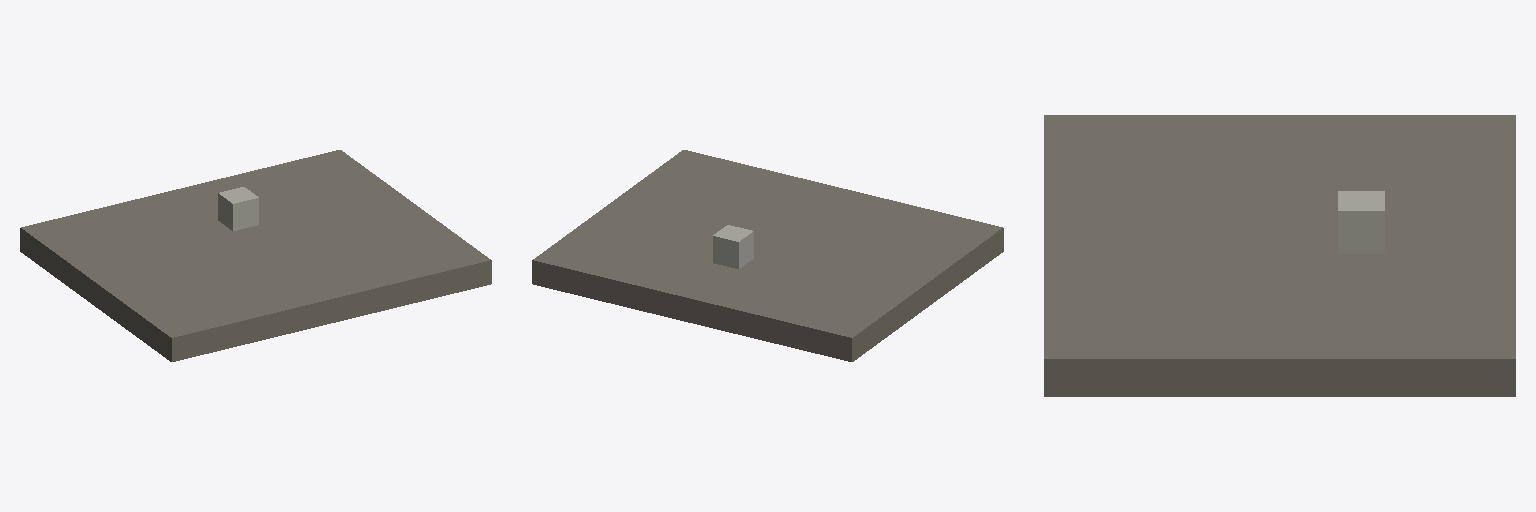
URDF robot description (parttoolgen_hammer_single_cube):
<?xml version="1.0"?>
<robot name="parttoolgen_hammer_single_cube">
  <link name="table_with_target_cube">
    <visual>
      <material name="wood">
        <color rgba="0.52 0.50 0.46 1.0"/>
      </material>
      <origin xyz="0 0 0"/>
      <geometry>
        <box size="0.55 0.45 0.04"/>
      </geometry>
    </visual>
    <collision>
      <origin xyz="0 0 0"/>
      <geometry>
        <box size="0.55 0.45 0.04"/>
      </geometry>
    </collision>

    <visual>
      <material name="target_cube">
        <color rgba="0.72 0.72 0.68 1.0"/>
      </material>
      <origin xyz="0.014836460136748497 0.07747197096610939 0.042499999999999996"/>
      <geometry>
        <box size="0.045 0.045 0.045"/>
      </geometry>
    </visual>
    <collision>
      <origin xyz="0.014836460136748497 0.07747197096610939 0.042499999999999996"/>
      <geometry>
        <box size="0.045 0.045 0.045"/>
      </geometry>
    </collision>

    <inertial>
      <mass value="500"/>
      <friction value="1.0"/>
      <inertia ixx="1000.0" ixy="0.0" ixz="0.0" iyy="1000.0" iyz="0.0" izz="1000.0"/>
    </inertial>
  </link>
</robot>

--- Facts derived from the render (not from the file) ---
3 views of the same robot in one strip: view 1: azimuth 30°, elevation 25°; view 2: azimuth 150°, elevation 25°; view 3: azimuth 270°, elevation 25° (orthographic).
Model parttoolgen_hammer_single_cube with 1 links and 0 joints (none), rooted at table_with_target_cube, posed every joint at zero.
Visible links, largest first — view 1: table_with_target_cube; view 2: table_with_target_cube; view 3: table_with_target_cube.
Link boxes in pixels (<box>): table_with_target_cube: <box>20,150,491,361</box>; table_with_target_cube: <box>532,150,1003,361</box>; table_with_target_cube: <box>1044,115,1515,396</box>.
Size in the robot's own frame: 0.55 by 0.45 by 0.085 metres.
Geometry: primitives only (box / cylinder / sphere), no mesh files.
